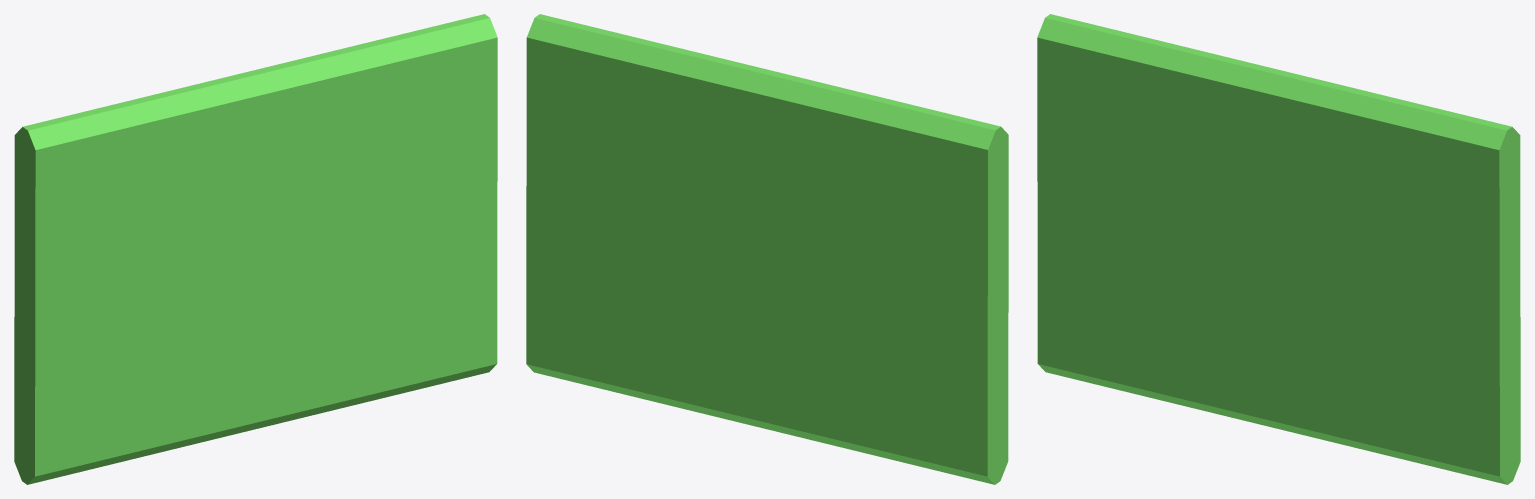
File: platform04.fbx
3 views of the same model, side by side, from view 1: azimuth 30°, elevation 25°; view 2: azimuth 150°, elevation 25°; view 3: azimuth 330°, elevation 25° (orthographic).
Visible parts, largest first — view 1: platform04; view 2: platform04; view 3: platform04.
Part boxes in pixels (x1=…): platform04: x1=14, y1=14, x2=497, y2=484; platform04: x1=526, y1=14, x2=1008, y2=484; platform04: x1=1037, y1=14, x2=1520, y2=484.
Bounding box in the file's own units: 131 × 95.79 × 10.43.
